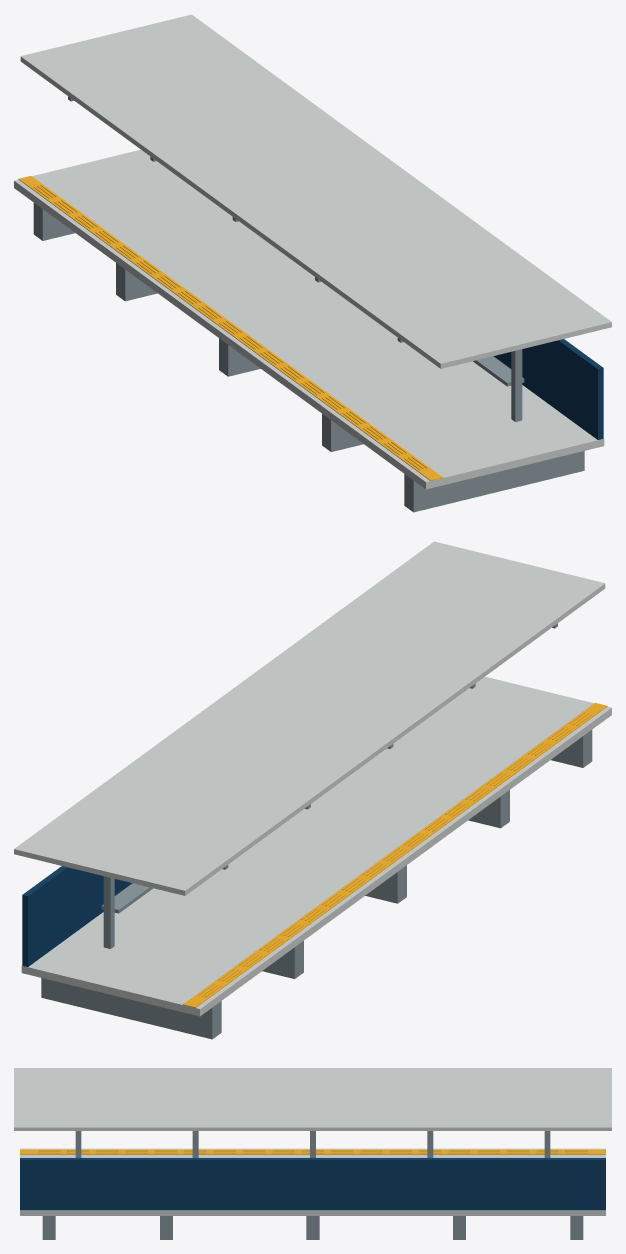
3 views of the same model, one above another, from view 1: azimuth 30°, elevation 25°; view 2: azimuth 150°, elevation 25°; view 3: azimuth 270°, elevation 25° (orthographic). The views are drawn at different scales.
Parts seen in each view (by area): view 1: CANOPY_Roof, PLATFORM_Slab, REAR_ServiceWall, EDGE_Tactile, UNDERSTRUCTURE, UNDERSTRUCTURE.004, CANOPY_Post.001, UNDERSTRUCTURE.001, UNDERSTRUCTURE.002, UNDERSTRUCTURE.003; view 2: CANOPY_Roof, PLATFORM_Slab, REAR_ServiceWall, EDGE_Tactile, UNDERSTRUCTURE.004, UNDERSTRUCTURE, CANOPY_Post, UNDERSTRUCTURE.003, UNDERSTRUCTURE.001, UNDERSTRUCTURE.002; view 3: CANOPY_Roof, REAR_ServiceWall, PLATFORM_Slab, EDGE_Tactile, UNDERSTRUCTURE, UNDERSTRUCTURE.002, UNDERSTRUCTURE.004, UNDERSTRUCTURE.001, UNDERSTRUCTURE.003.
Part boxes in pixels (x1,y1,x2,y2): CANOPY_Roof: (20,14,611,368); PLATFORM_Slab: (14,149,604,489); REAR_ServiceWall: (493,339,603,439); EDGE_Tactile: (18,176,442,480); UNDERSTRUCTURE: (404,451,584,512); UNDERSTRUCTURE.004: (33,203,74,240); CANOPY_Post.001: (511,349,522,421); UNDERSTRUCTURE.001: (322,414,363,451); UNDERSTRUCTURE.002: (219,338,260,376); UNDERSTRUCTURE.003: (116,263,157,301); CANOPY_Roof: (14,541,605,895); PLATFORM_Slab: (21,676,611,1016); REAR_ServiceWall: (22,866,132,966); EDGE_Tactile: (183,703,607,1007); UNDERSTRUCTURE.004: (41,978,221,1039); UNDERSTRUCTURE: (551,730,592,767); CANOPY_Post: (103,876,114,948); UNDERSTRUCTURE.003: (262,941,303,978); UNDERSTRUCTURE.001: (468,790,509,828); UNDERSTRUCTURE.002: (365,865,406,903); CANOPY_Roof: (14,1068,611,1130); REAR_ServiceWall: (20,1158,605,1210); PLATFORM_Slab: (20,1148,605,1215); EDGE_Tactile: (20,1149,605,1154); UNDERSTRUCTURE: (42,1216,55,1239); UNDERSTRUCTURE.002: (306,1216,319,1239); UNDERSTRUCTURE.004: (570,1216,583,1239); UNDERSTRUCTURE.001: (160,1216,172,1239); UNDERSTRUCTURE.003: (453,1216,465,1239).
Size of the model in its own units: 5.1 by 4.33 by 20.4.
